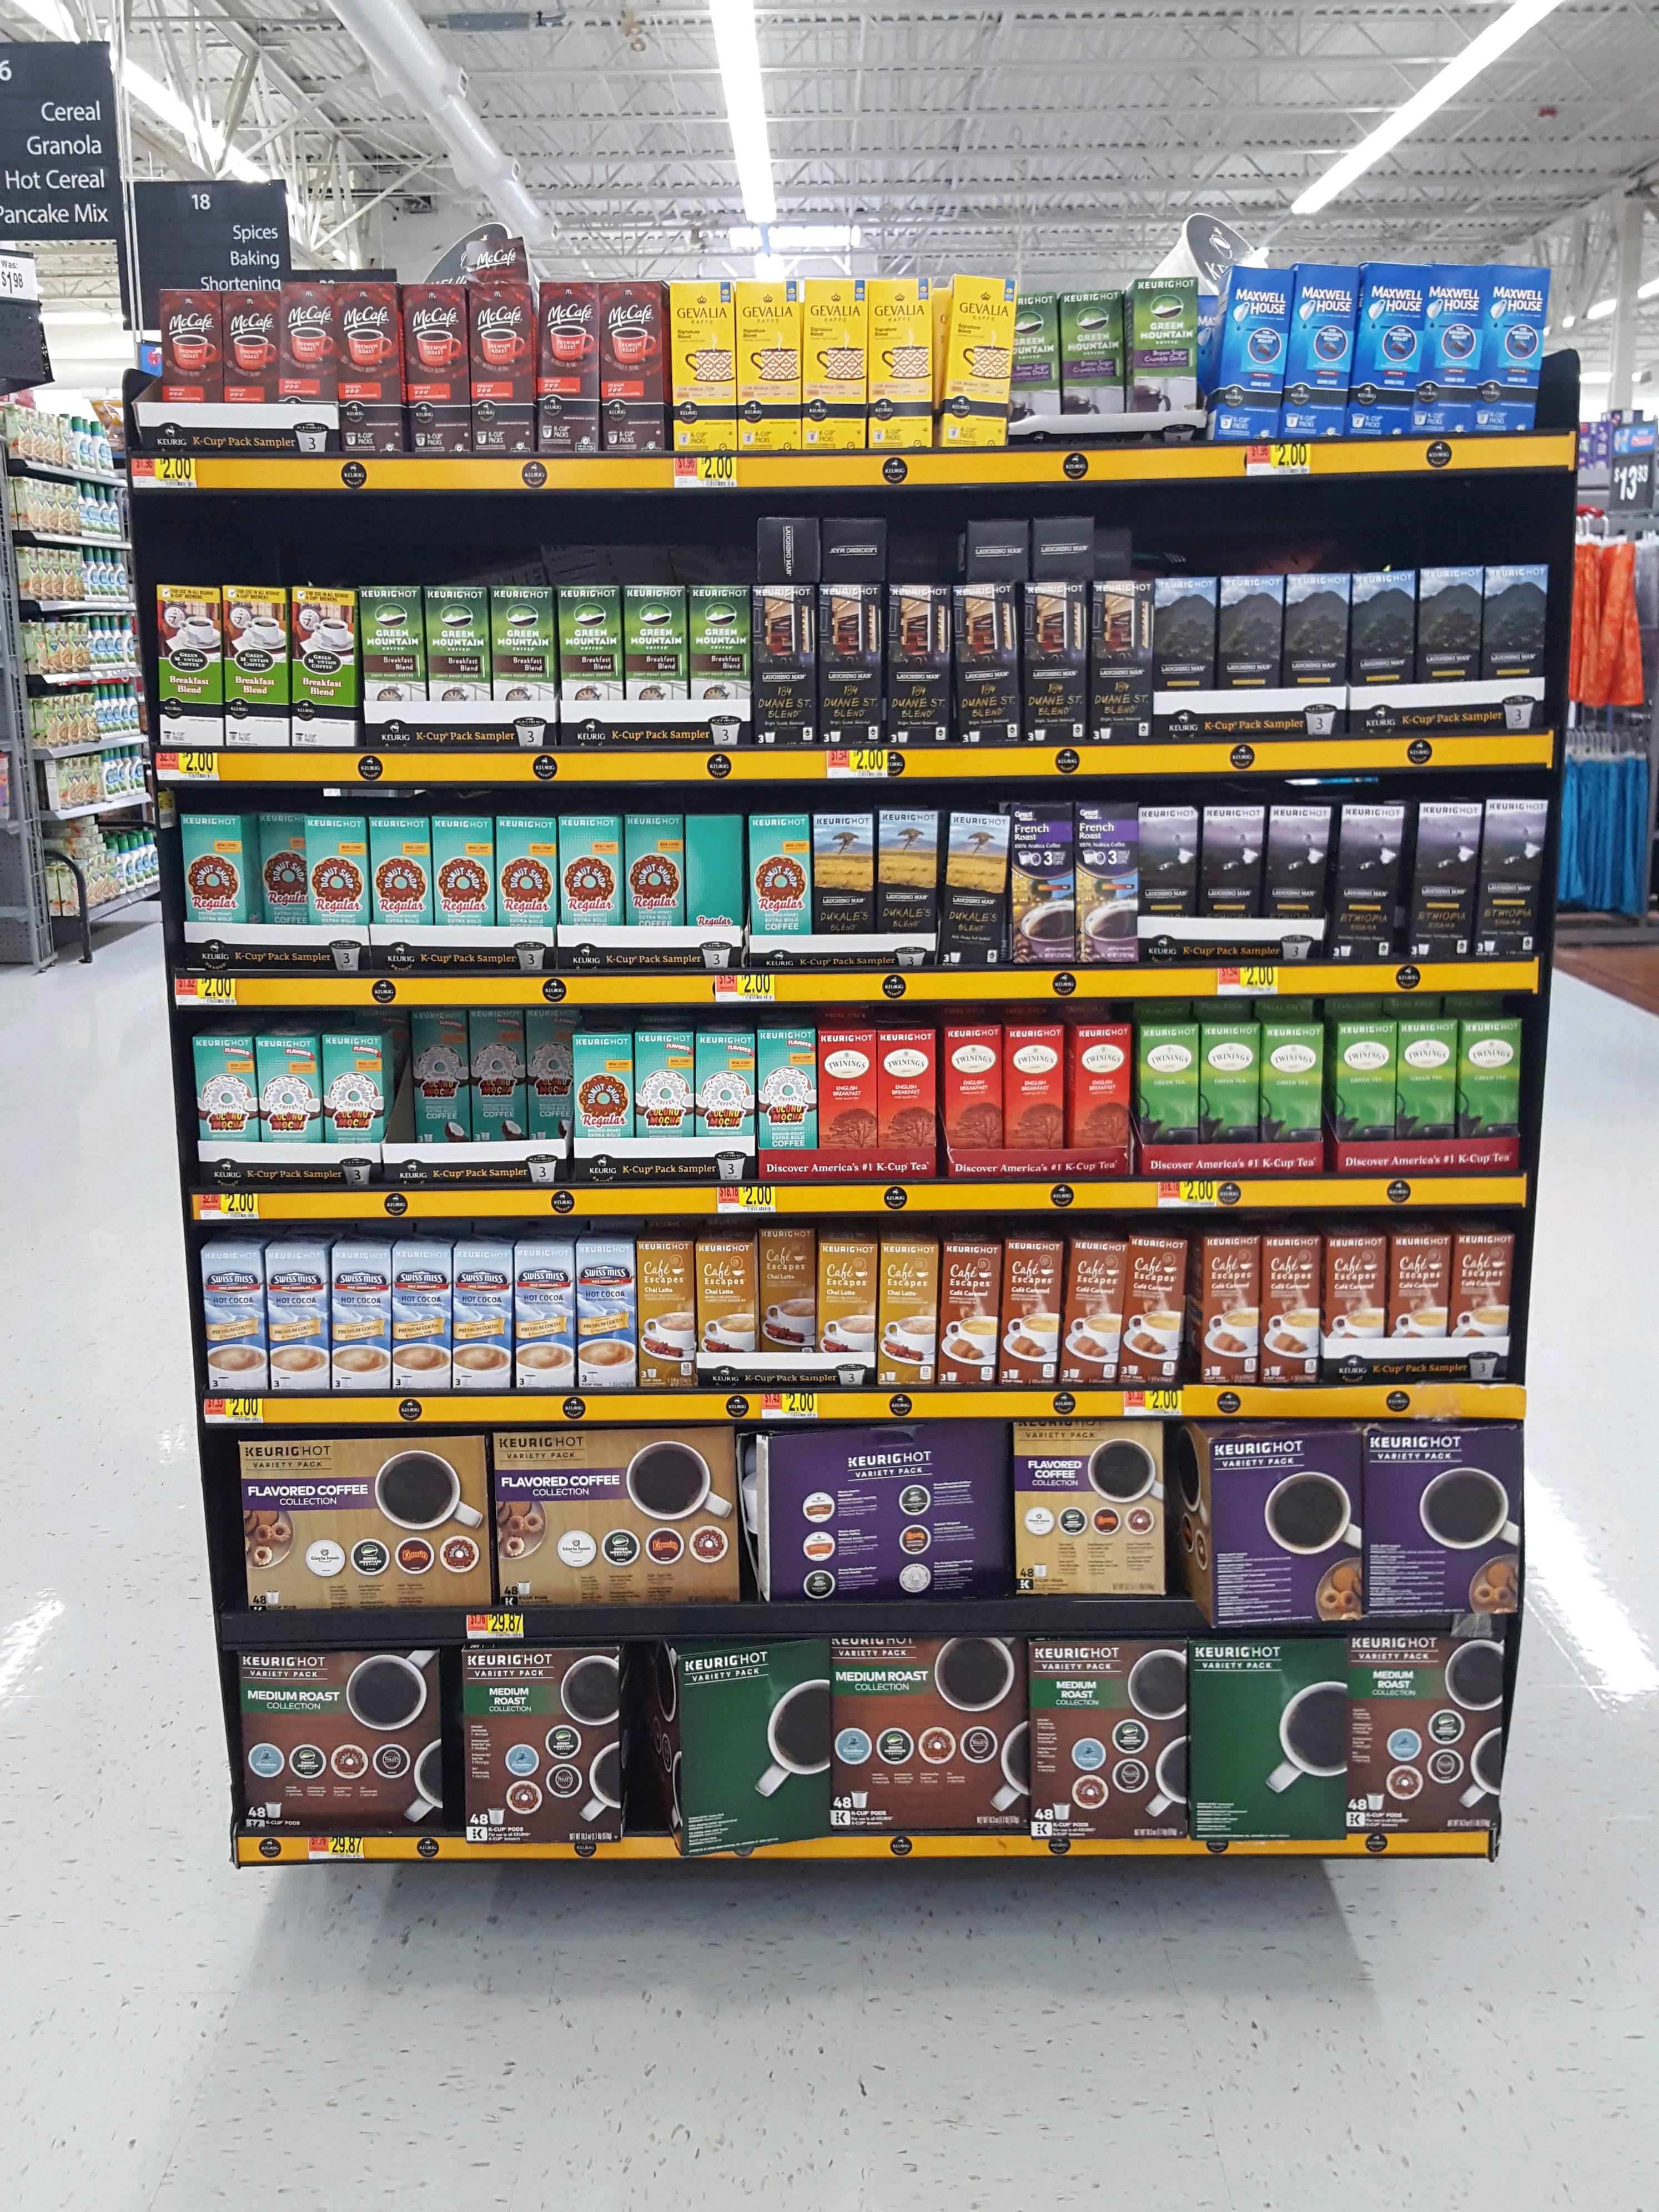product: (742, 1425, 1007, 1599), (239, 1433, 493, 1613), (497, 1423, 741, 1609), (833, 1635, 1028, 1836), (234, 1651, 446, 1827), (657, 1637, 833, 1844), (457, 1639, 629, 1846), (1361, 1416, 1525, 1627), (1194, 1423, 1363, 1627), (1345, 1630, 1509, 1836), (1194, 1630, 1347, 1843), (1028, 1644, 1194, 1839), (1009, 1421, 1169, 1602), (1215, 261, 1291, 446), (932, 277, 1007, 449), (1352, 260, 1420, 442), (1474, 265, 1546, 435), (1481, 794, 1553, 963), (153, 578, 223, 751), (1335, 801, 1410, 961), (866, 275, 934, 449), (1129, 273, 1201, 439), (225, 582, 295, 751), (1215, 571, 1284, 738), (335, 280, 401, 456), (558, 582, 626, 751), (885, 583, 957, 744), (666, 280, 732, 451), (1412, 801, 1481, 963), (734, 275, 798, 449), (805, 810, 878, 963), (1419, 564, 1488, 725), (601, 275, 664, 453), (490, 582, 558, 745), (802, 277, 866, 449), (403, 284, 467, 456), (1255, 1228, 1326, 1383), (1058, 287, 1131, 437), (1351, 564, 1417, 730), (293, 582, 359, 747), (538, 280, 601, 455), (626, 582, 690, 751), (471, 287, 535, 456), (955, 582, 1021, 745), (1486, 561, 1553, 723), (1119, 1233, 1188, 1386), (941, 806, 1009, 963), (1293, 261, 1352, 441), (1011, 801, 1077, 961), (1286, 571, 1352, 732), (753, 583, 817, 747), (362, 585, 427, 747), (1025, 583, 1089, 745), (819, 585, 884, 747), (179, 812, 247, 965), (425, 583, 490, 744), (303, 812, 369, 967), (1150, 578, 1215, 737), (690, 583, 751, 751), (1204, 805, 1270, 958), (1190, 1231, 1256, 1385), (159, 291, 223, 448), (1337, 1017, 1403, 1169), (263, 1245, 329, 1397), (1262, 1017, 1330, 1163), (1140, 801, 1204, 954), (1420, 261, 1476, 437), (1093, 578, 1150, 747), (1006, 1024, 1072, 1170), (1452, 1231, 1518, 1378), (1079, 798, 1138, 960), (469, 1007, 530, 1163), (939, 1022, 1004, 1170), (877, 1238, 939, 1390), (319, 1031, 389, 1167), (193, 1031, 260, 1174), (202, 1245, 263, 1400), (1141, 1019, 1204, 1169), (371, 817, 434, 967), (1077, 1014, 1136, 1170), (697, 1238, 760, 1386), (495, 815, 558, 963), (1387, 1237, 1453, 1376), (223, 286, 281, 446), (331, 1242, 390, 1397), (1272, 805, 1333, 954), (683, 813, 744, 963), (622, 812, 683, 961), (561, 813, 622, 963), (1460, 1015, 1525, 1157), (453, 1244, 512, 1397), (877, 1021, 936, 1172), (392, 1245, 451, 1397), (816, 1238, 875, 1390), (880, 805, 938, 960), (434, 819, 497, 960), (284, 277, 336, 446), (748, 812, 805, 965), (575, 1240, 634, 1388), (1060, 1238, 1119, 1386), (1000, 1238, 1060, 1386), (633, 1028, 694, 1170), (413, 1005, 467, 1165), (636, 1238, 692, 1393), (258, 1033, 321, 1170), (817, 1026, 877, 1170), (1328, 1231, 1387, 1376), (247, 813, 303, 967), (572, 1031, 633, 1170), (756, 1028, 817, 1167), (762, 1228, 814, 1390), (1204, 1021, 1262, 1167), (941, 1238, 999, 1385), (518, 1242, 573, 1388), (1401, 1021, 1460, 1157), (695, 1033, 755, 1167), (1007, 291, 1058, 437), (532, 1007, 572, 1162), (758, 512, 821, 583), (823, 514, 887, 582), (1033, 510, 1096, 578), (969, 517, 1032, 582), (885, 531, 957, 582), (464, 233, 533, 284)
